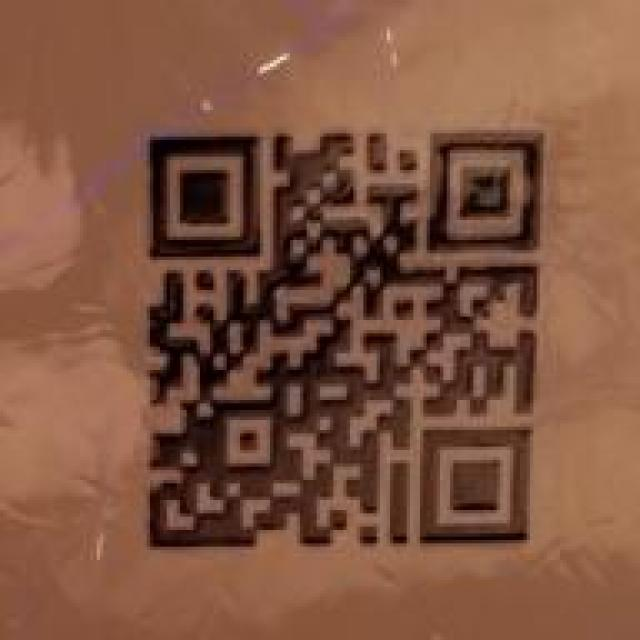QR_CODE: (133, 87, 570, 563)
